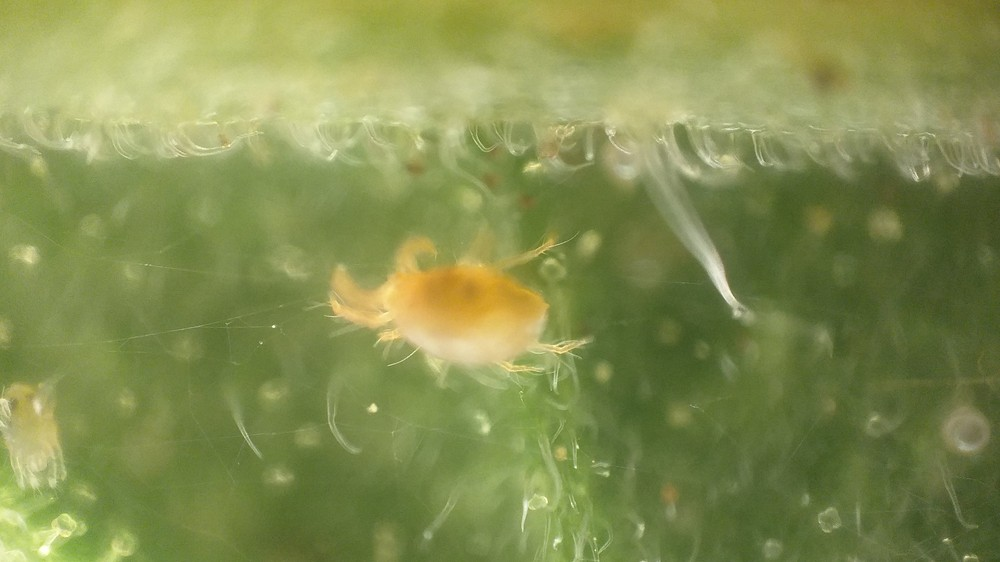Aracnido Rojo: (301, 199, 626, 425)
